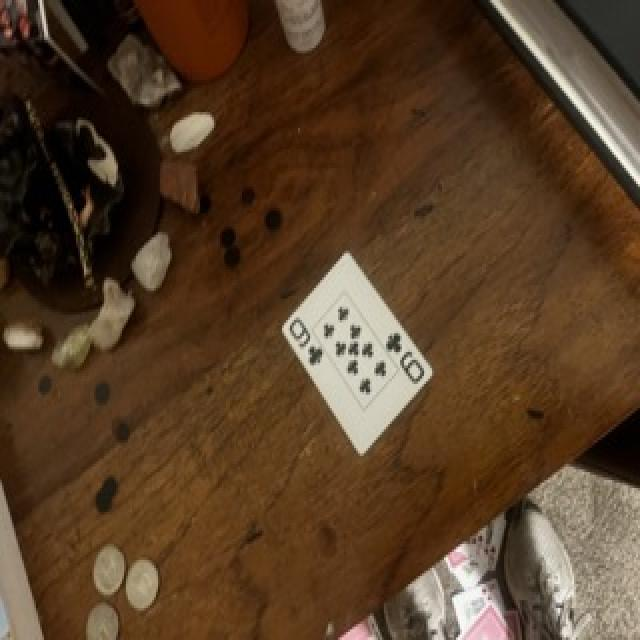9 of clubs: (284, 253, 432, 455)
